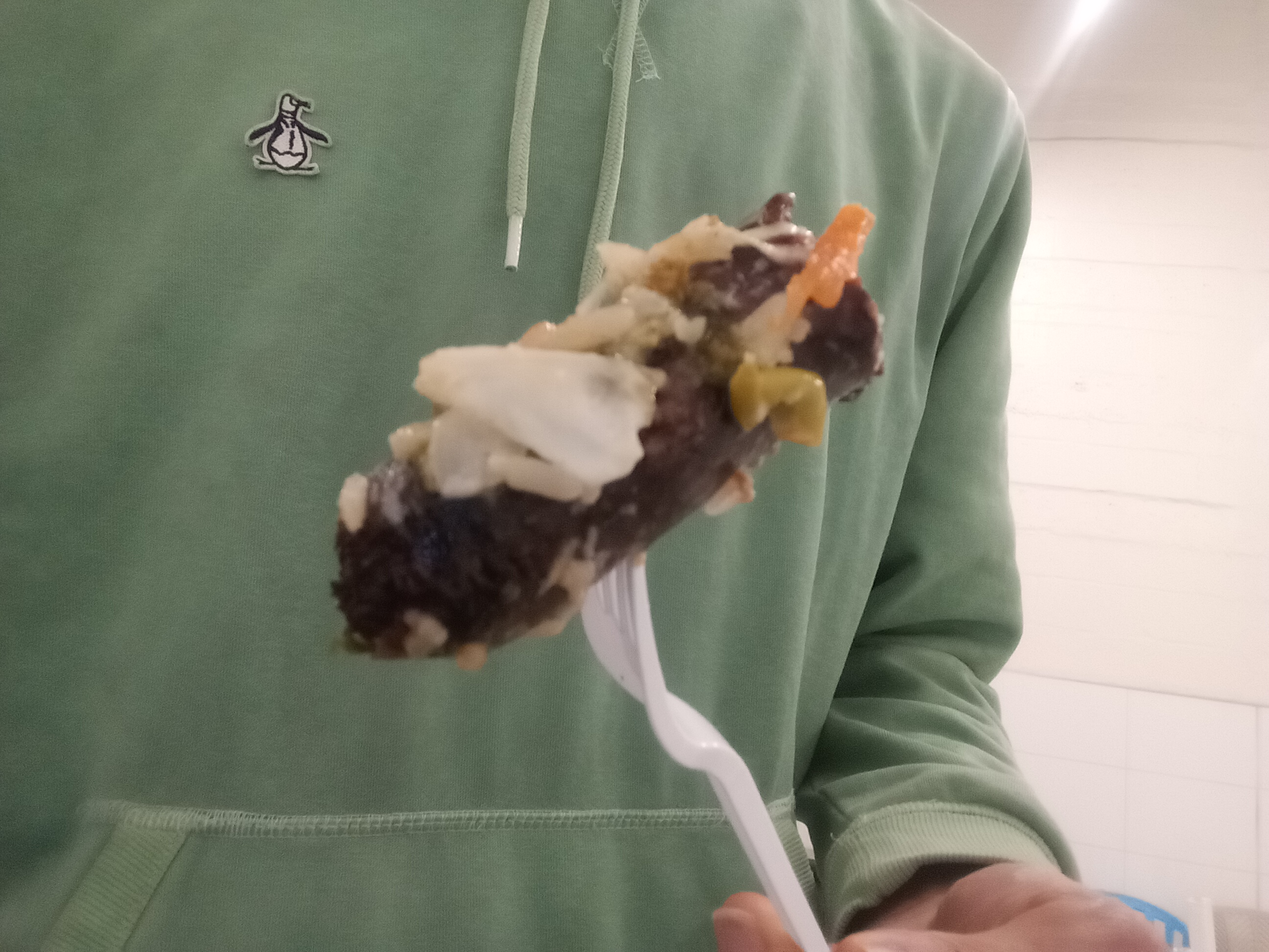Organico: (332, 189, 889, 668)
